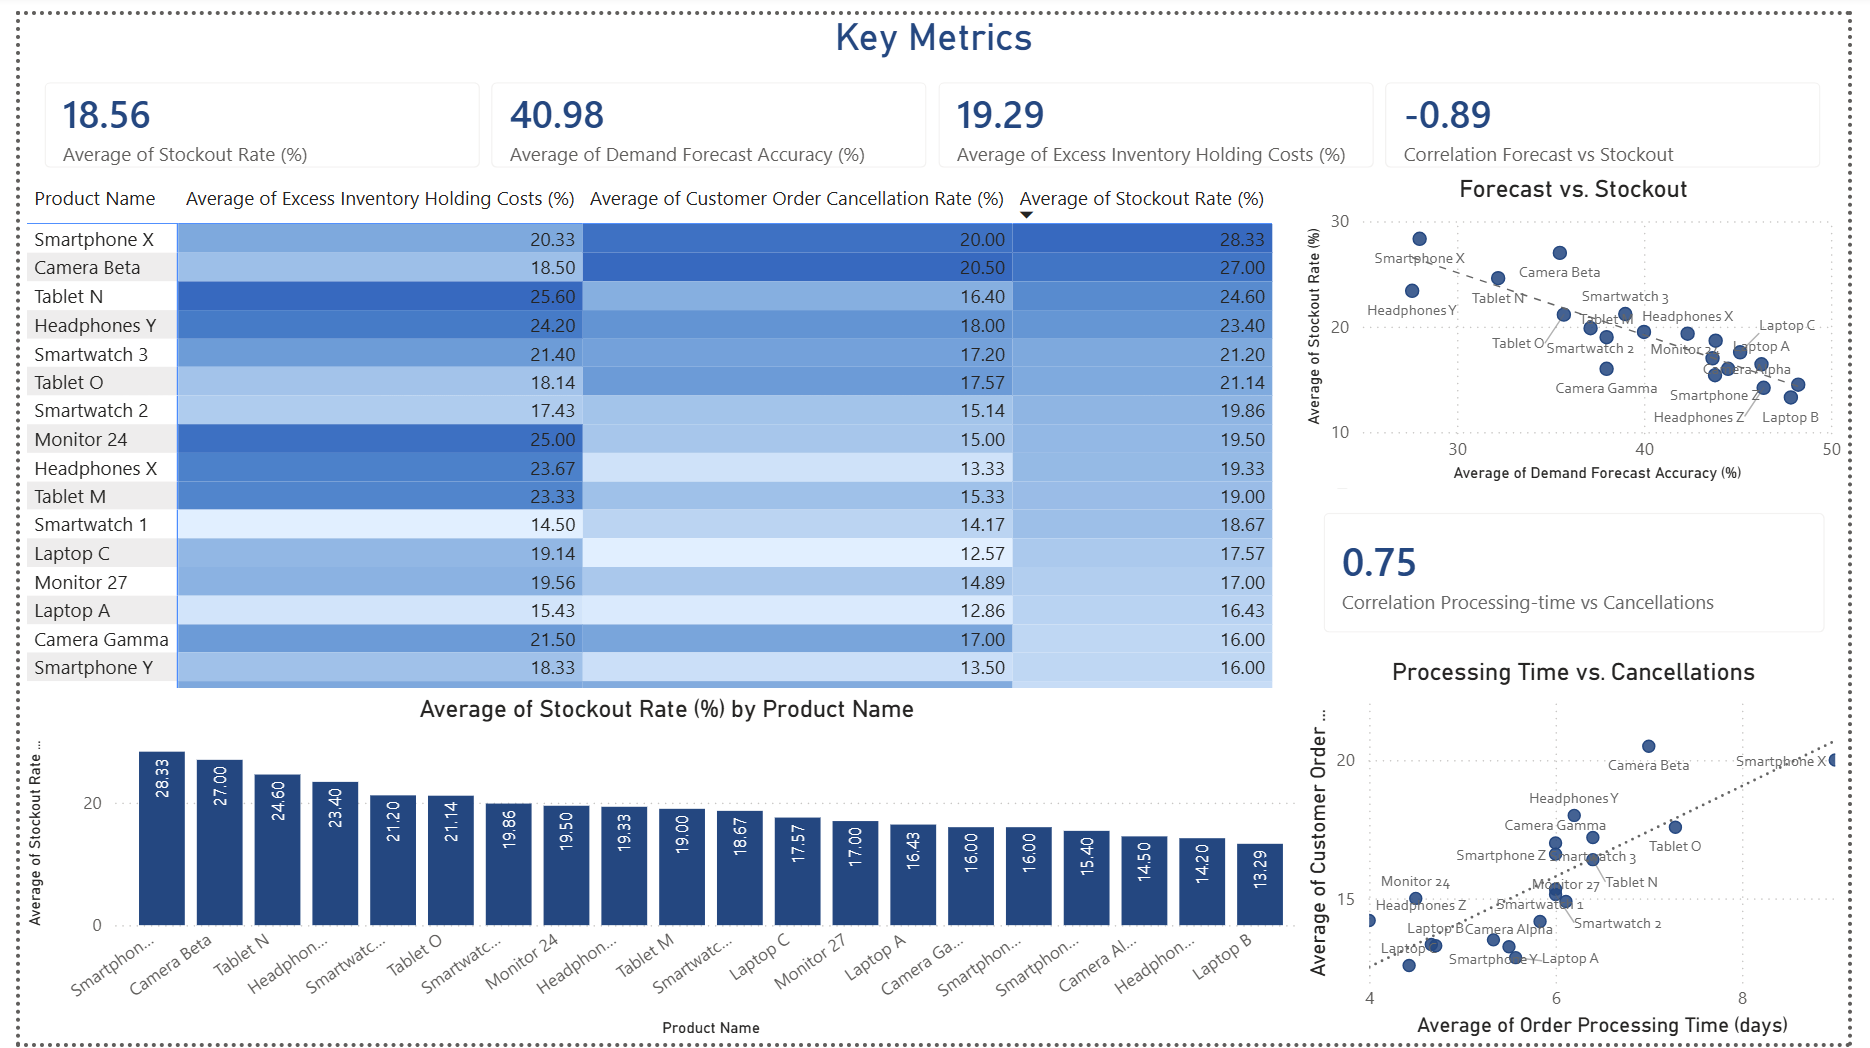

Layout of this report page (visuals, bound fields, positions):
{"tool":"powerbi","page":{"name":"Page 1","canvas":[1280,720],"ordinal":0},"visuals":[{"type":"clusteredColumnChart","fields":{"Y":["Avg(Sheet1.Stockout Rate (%))"],"Category":["Sheet1.Product Name"]},"box":[0,476,906,244],"z":1000},{"type":"cardVisual","title":"Key Metrics","fields":{"Data":["Avg(Sheet1.Stockout Rate (%))","Avg(Sheet1.Demand Forecast Accuracy (%))","Avg(Sheet1.Excess Inventory Holding Costs (%))","Sheet1.Correlation Forecast vs Stockout"]},"box":[0,0,1280,124.4],"z":2000},{"type":"pivotTable","fields":{"Rows":["Sheet1.Product Name"],"Values":["Avg(Sheet1.Excess Inventory Holding Costs (%))","Avg(Sheet1.Customer Order Cancellation Rate (%))","Avg(Sheet1.Stockout Rate (%))"]},"box":[0,112.2,935.6,363.3],"z":3000},{"type":"scatterChart","title":"Forecast vs. Stockout","fields":{"Y":["Avg(Sheet1.Stockout Rate (%))"],"Category":["Sheet1.Product Name"],"X":["Avg(Sheet1.Demand Forecast Accuracy (%))"]},"box":[895.5,111.8,384.5,220],"z":4000},{"type":"cardVisual","fields":{"Data":["Sheet1.Correlation Processing-time vs Cancellations"]},"box":[895,332,385,118],"z":4001},{"type":"scatterChart","title":"Processing Time vs. Cancellations","fields":{"X":["Avg(Sheet1.Order Processing Time (days))"],"Y":["Avg(Sheet1.Customer Order Cancellation Rate (%))"],"Category":["Sheet1.Product Name"]},"box":[895.5,450,384.5,270],"z":4002}]}

Visuals, with their boxes in screenshot pixels (x1, y1, x2, y2), scaled from the page's 1280x720 canvas onto the 1870x1048 screenshot:
clusteredColumnChart - Avg(Sheet1.Stockout Rate (%)) x Sheet1.Product Name: bbox=(0, 693, 1324, 1047)
"Key Metrics" cardVisual: bbox=(0, 0, 1869, 181)
pivotTable - Sheet1.Product Name x Avg(Sheet1.Excess Inventory Holding Costs (%)): bbox=(0, 163, 1367, 692)
"Forecast vs. Stockout" scatterChart: bbox=(1308, 163, 1869, 483)
cardVisual - Sheet1.Correlation Processing-time vs Cancellations: bbox=(1308, 483, 1869, 655)
"Processing Time vs. Cancellations" scatterChart: bbox=(1308, 655, 1869, 1047)
